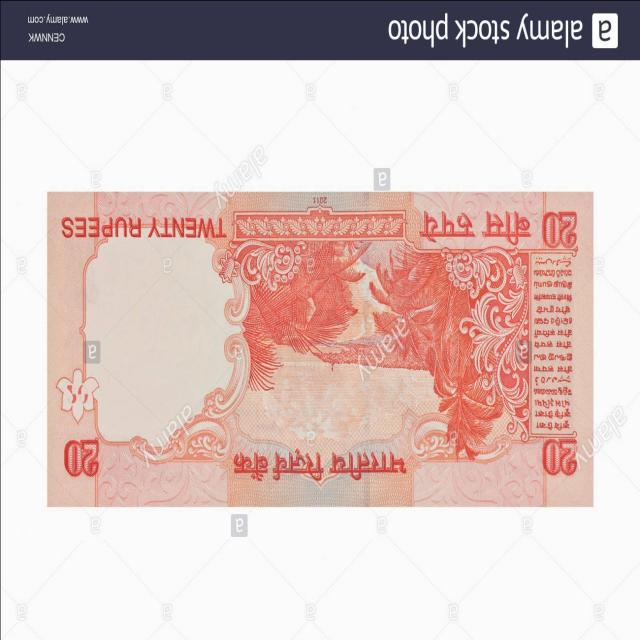20IndianRupees: (48, 192, 594, 503)
